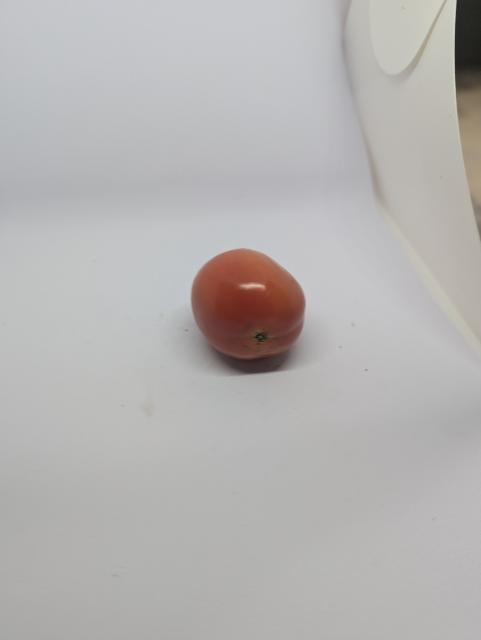red: (187, 238, 324, 372)
